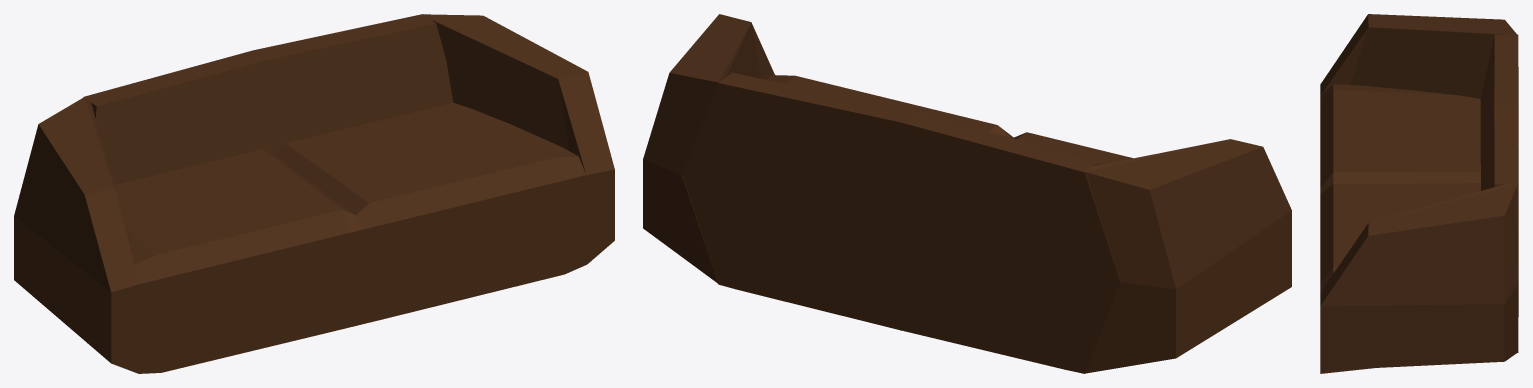
The model's file is bank.fbx.
The picture shows the model from 3 angles, left to right: view 1: azimuth 30°, elevation 25°; view 2: azimuth 150°, elevation 25°; view 3: azimuth 270°, elevation 25°; orthographic projection. The views are drawn at different scales.
Visible parts, largest first — view 1: Bank; view 2: Bank; view 3: Bank.
Boxes of the visible parts, x1,y1,x2,y2 form: Bank: (14, 14, 614, 373); Bank: (643, 14, 1291, 373); Bank: (1320, 14, 1518, 373).
Bounding box in the file's own units: 786 × 289 × 297.
